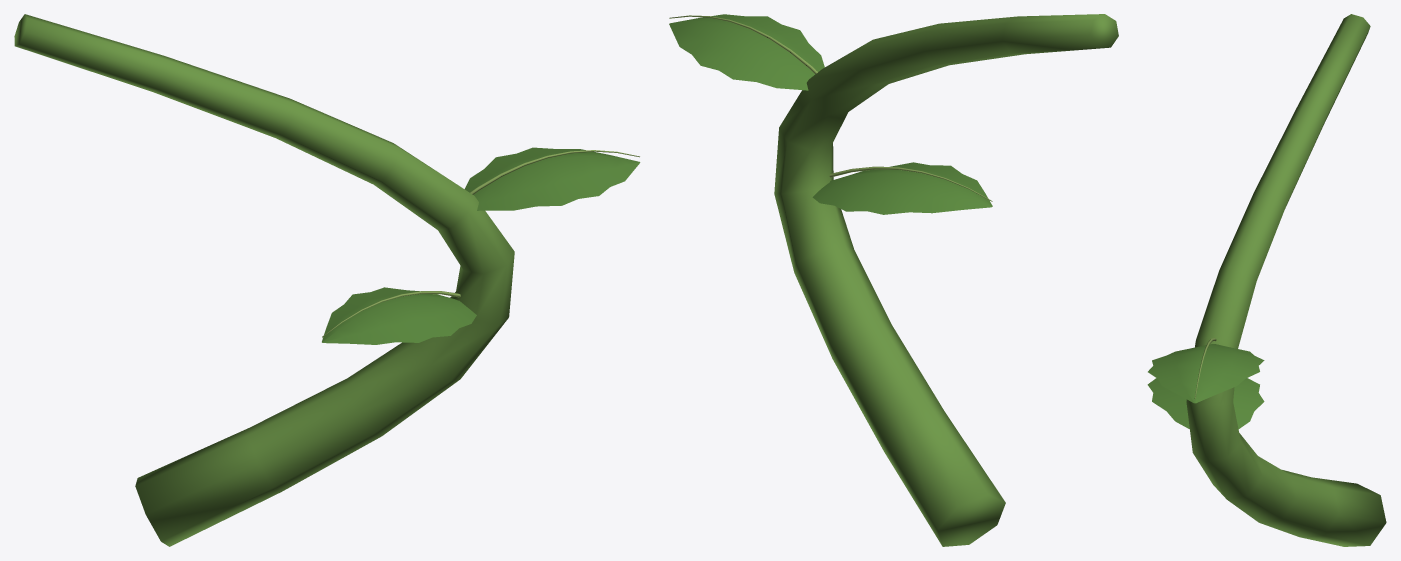
File: sunflower-test-sprout-3.glb
3 renders of one model, left to right at view 1: azimuth 30°, elevation 25°; view 2: azimuth 150°, elevation 25°; view 3: azimuth 270°, elevation 25°, orthographic. The views are drawn at different scales.
Parts seen in each view (by area): view 1: Curved tapered stem; view 2: Curved tapered stem; view 3: Curved tapered stem.
Boxes of the visible parts, box(x1,y1,x2,y2) form: Curved tapered stem: box(14, 14, 640, 546); Curved tapered stem: box(669, 14, 1118, 546); Curved tapered stem: box(1147, 14, 1386, 546).
Bounding box in the file's own units: 0.1416 × 0.1424 × 0.0649.
